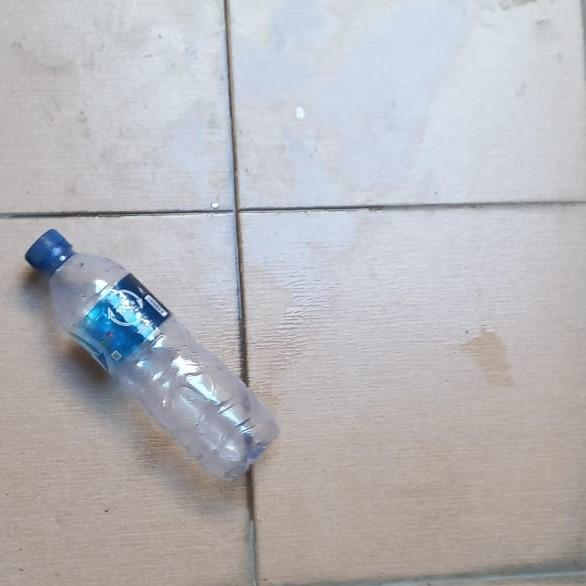Plastik: (24, 228, 282, 484)
